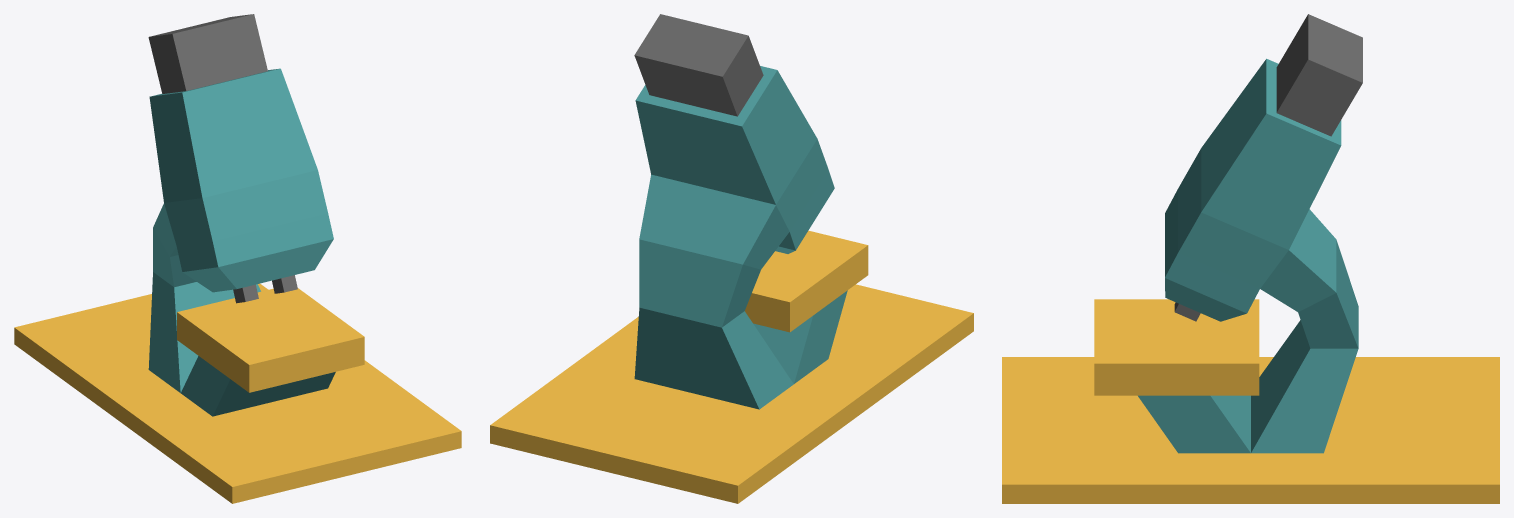
The model's file is Telescopio.fbx.
3 views of the same model, side by side, from view 1: azimuth 30°, elevation 25°; view 2: azimuth 150°, elevation 25°; view 3: azimuth 270°, elevation 25° (orthographic). The views are drawn at different scales.
Visible parts, largest first — view 1: microscopio; view 2: microscopio; view 3: microscopio.
Part boxes in pixels (x1,y1,x2,y2): microscopio: (14, 14, 461, 503); microscopio: (490, 14, 973, 503); microscopio: (1002, 14, 1499, 503).
Size of the model in its own units: 200 by 295 by 329.
